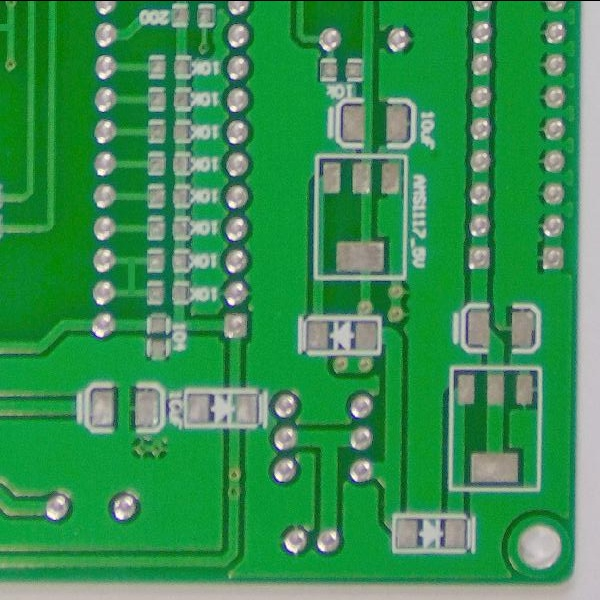short: (121, 252, 140, 300), (1, 12, 20, 47)
